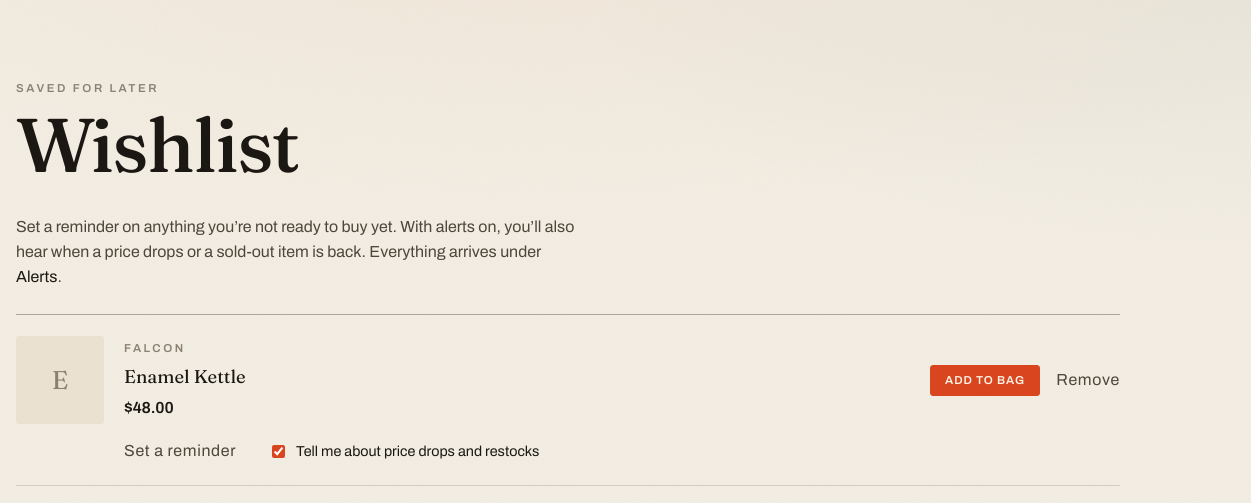
Test: WishlistPage › removes an item
This screenshot has width=1251, height=503.
Click the button "Remove" at (1088, 380), box x1=1056 y1=368 x2=1120 y2=393
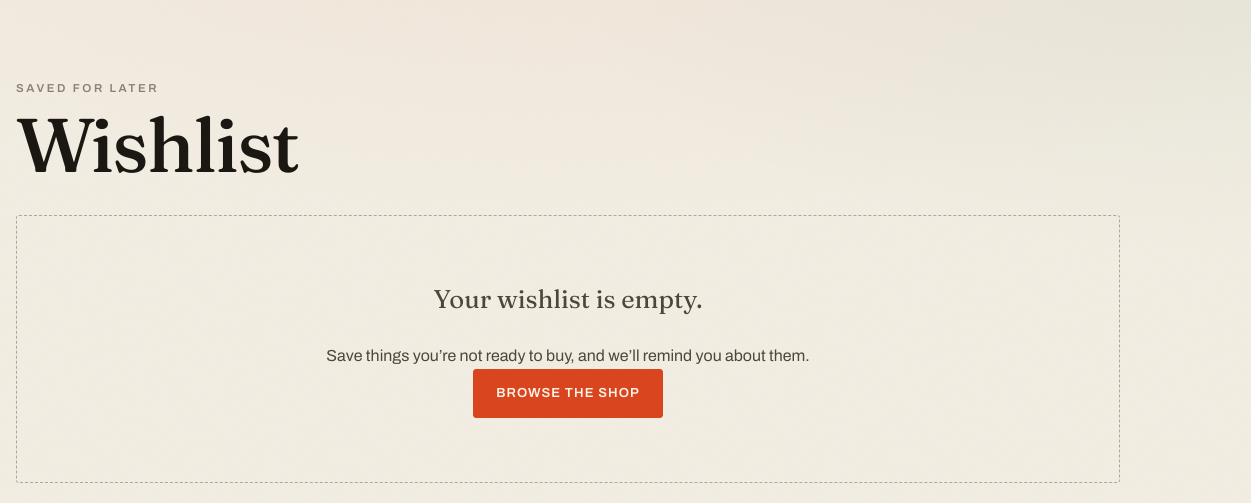
Check: the text "Your wishlist is empty." is shown, box x1=433 y1=280 x2=703 y2=320
